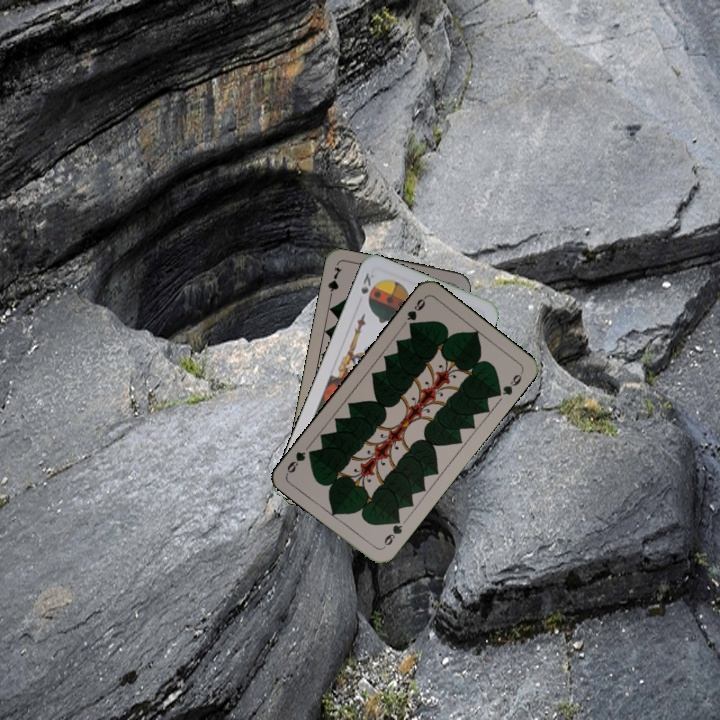G7: (324, 263, 345, 303)
G9: (402, 293, 429, 331), (379, 513, 405, 551)
SK: (357, 269, 377, 303)
